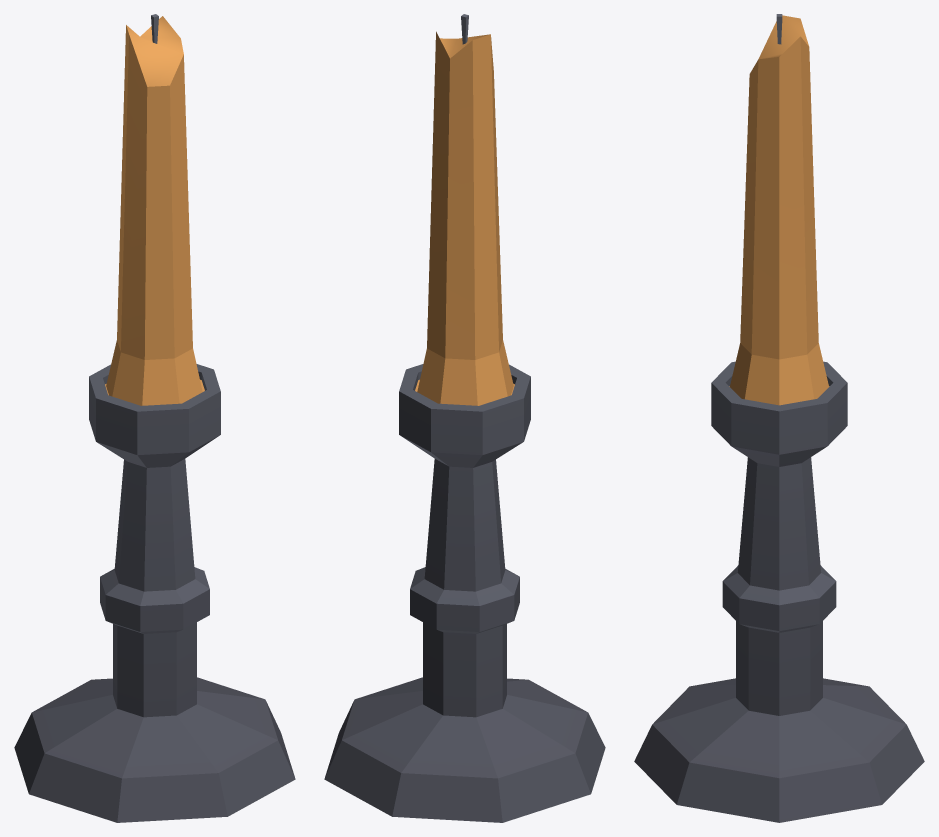
File: Candle_03.fbx
3 views of the same model, side by side, from view 1: azimuth 30°, elevation 25°; view 2: azimuth 150°, elevation 25°; view 3: azimuth 270°, elevation 25° (orthographic).
Parts seen in each view (by area): view 1: Candle_03; view 2: Candle_03; view 3: Candle_03.
Boxes of the visible parts, x1,y1,x2,y2 form: Candle_03: [14, 14, 295, 822]; Candle_03: [324, 14, 605, 822]; Candle_03: [634, 14, 924, 822].
Bounding box in the file's own units: 0.2484 × 0.7037 × 0.2484.
